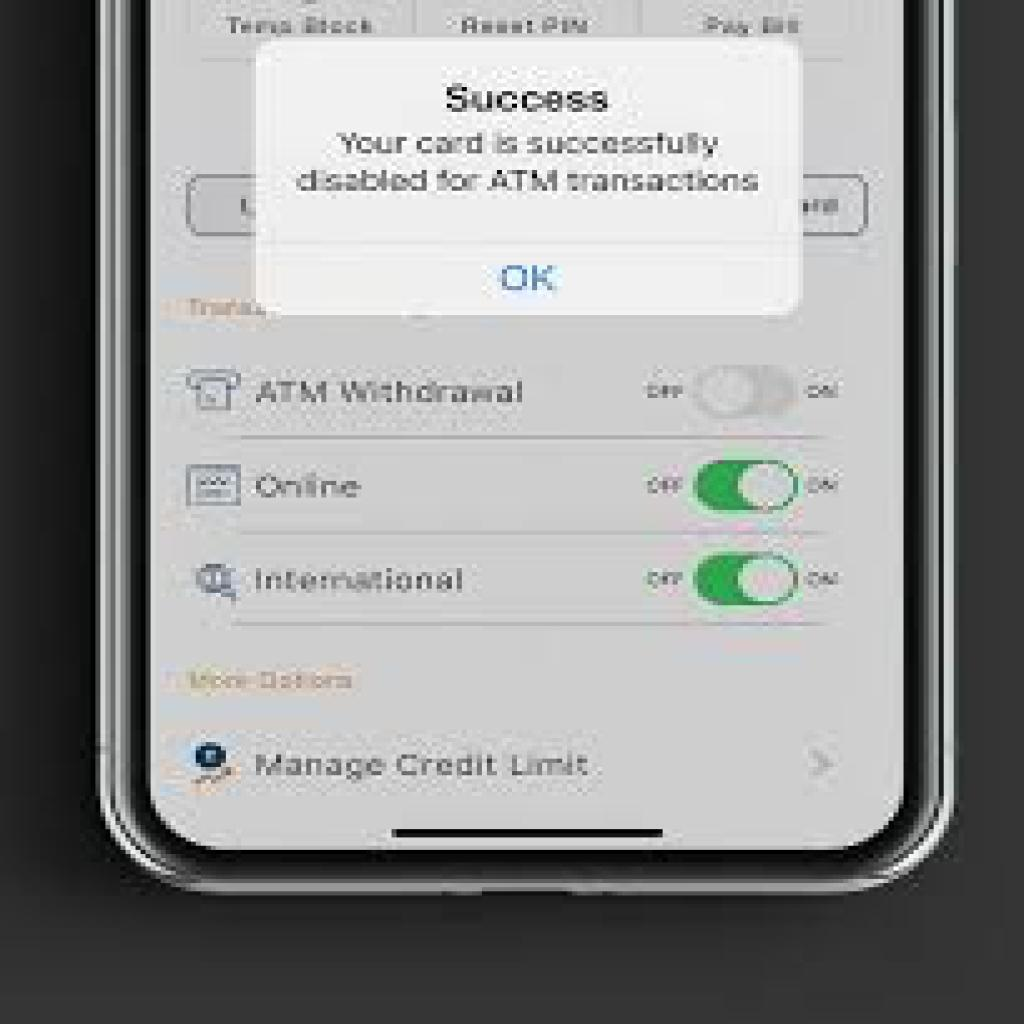dropdown: (243, 732, 842, 792)
label: (254, 374, 533, 411), (254, 558, 474, 601), (257, 471, 373, 506)
switch: (693, 362, 800, 422), (696, 552, 801, 608), (695, 461, 801, 516)
